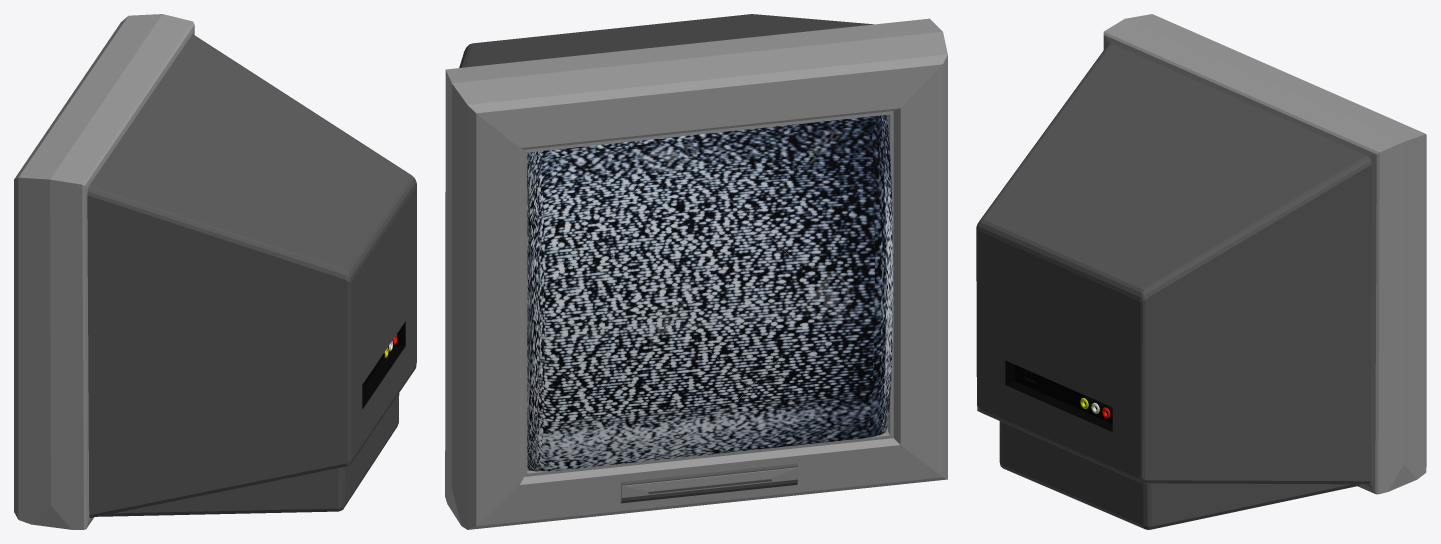
3 renders of one model, left to right at view 1: azimuth 30°, elevation 25°; view 2: azimuth 150°, elevation 25°; view 3: azimuth 270°, elevation 25°, orthographic. The views are drawn at different scales.
Visible parts, largest first — view 1: TV; view 2: TV; view 3: TV.
Boxes of the visible parts, x1,y1,x2,y2 form: TV: [14, 14, 416, 529]; TV: [445, 14, 947, 529]; TV: [976, 14, 1426, 529].
Bounding box in the file's own units: 541 × 457 × 541.
